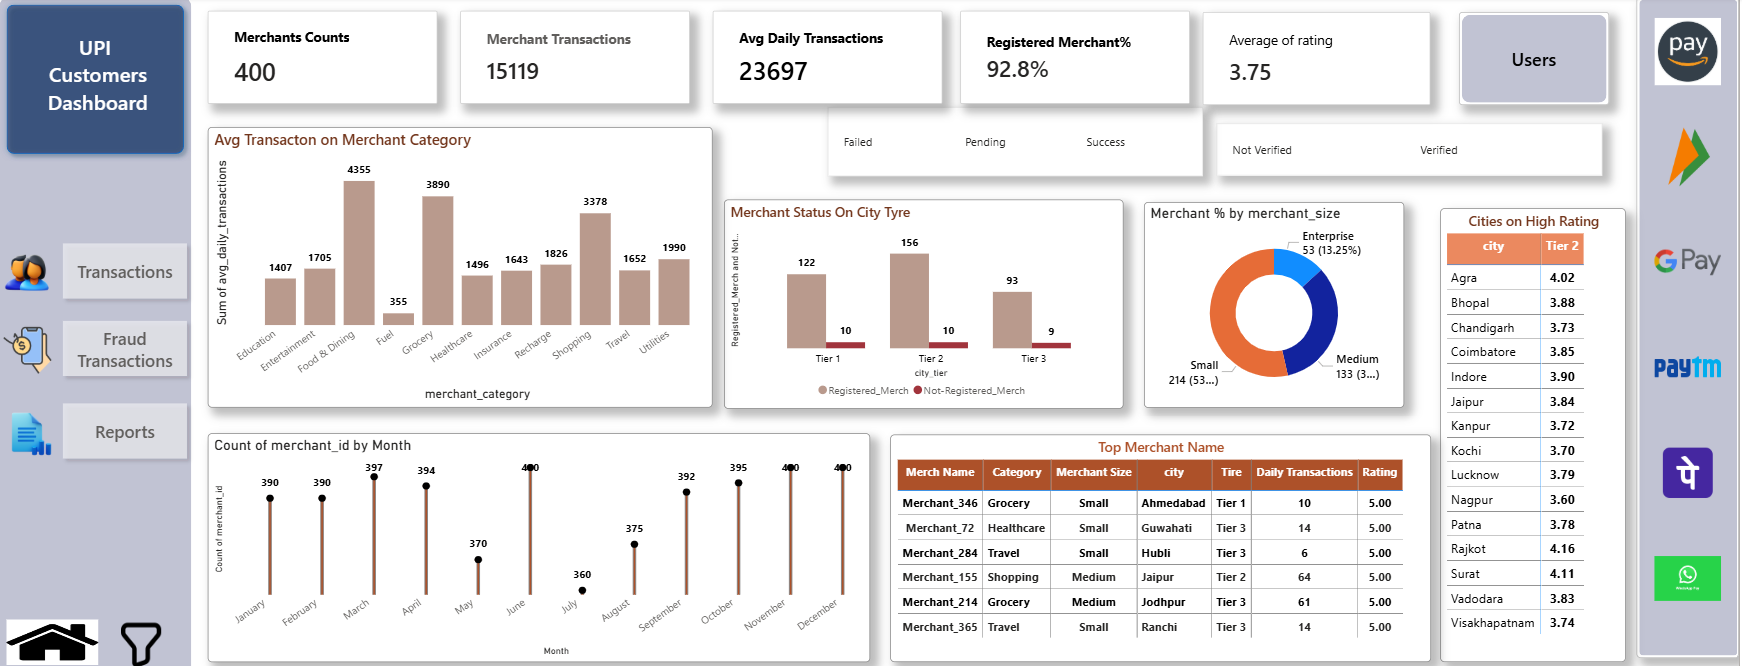

The page's visual inventory and layout, read from the dashboard file:
{"tool":"powerbi","page":{"name":"Customer","canvas":[2050,800],"ordinal":2},"visuals":[{"type":"group","id":"g1","title":"Group 11","box":[0,0,230,800],"z":0},{"type":"shape","box":[0,0,226.7,193.5],"z":0,"group":"g2"},{"type":"shape","box":[0,0,226.7,799.8],"z":0,"group":"g1"},{"type":"shape","box":[1927.8,0,121.9,778.4],"z":0,"group":"g3"},{"type":"cardVisual","fields":{"Data":["fraud_labels.Merch_Transactions"]},"box":[543.8,16.8,270,109.9],"z":0,"group":"g7"},{"type":"actionButton","box":[66,280.8,164.1,82.9],"z":0,"group":"g4"},{"type":"actionButton","box":[66,372.1,164.1,82.9],"z":0,"group":"g5"},{"type":"actionButton","box":[66,470.2,164.1,82.9],"z":0,"group":"g6"},{"type":"group","id":"g2","title":"Group 1","box":[0,0,226.7,193.5],"z":1000,"group":"g1"},{"type":"group","id":"g3","title":"Group 3","box":[1927.8,0,121.9,778.4],"z":1000},{"type":"advancedSlicerVisual","fields":{"Values":["slicer.preferred_ app"]},"box":[1943,1.6,91.4,748.8],"z":1000,"group":"g3"},{"type":"cardVisual","fields":{"Data":["Count(merchants.merchant_id)"]},"box":[245.8,16.8,270,109.9],"z":1000,"group":"g7"},{"type":"textbox","box":[30.5,39,171.2,114.1],"z":1000,"group":"g2"},{"type":"image","box":[1.7,294.3,64.3,59.2],"z":1000,"group":"g4"},{"type":"image","box":[1.7,385.6,64.3,59.2],"z":1000,"group":"g5"},{"type":"image","box":[1.7,483.7,64.3,59.2],"z":1000,"group":"g6"},{"type":"cardVisual","fields":{"Data":["fraud_labels.Registered_merch%"]},"box":[1132.2,16.8,270,109.9],"z":2000,"group":"g7"},{"type":"advancedSlicerVisual","fields":{"Values":["transactions.status"]},"box":[976.1,129.2,441.3,81.5],"z":2000},{"type":"group","id":"g4","title":"Group 10","box":[1.7,280.8,228.3,82.9],"z":2000,"group":"g1"},{"type":"cardVisual","fields":{"Data":["Sum(merchants.avg_daily_transactions)"]},"box":[839.9,16.8,270,109.9],"z":3000,"group":"g7"},{"type":"advancedSlicerVisual","fields":{"Values":["users.kyc_status"]},"box":[1434.2,149.1,454.4,61.5],"z":3000},{"type":"group","id":"g5","title":"Group 10","box":[1.7,372.1,228.3,82.9],"z":3000,"group":"g1"},{"type":"cardVisual","fields":{"Data":["Avg(merchants.rating)"]},"box":[1417.2,18.7,268.2,109.9],"z":4000,"group":"g7"},{"type":"group","id":"g6","title":"Group 10","box":[1.7,470.2,228.3,82.9],"z":4000,"group":"g1"},{"type":"shape","box":[1718.9,18.7,176.9,109.9],"z":5000,"group":"g7"},{"type":"group","id":"g7","title":"Group 4","box":[245.8,16.8,1650,111.7],"z":10000},{"type":"donutChart","fields":{"Category":["merchants.merchant_size"],"Y":["Count(merchants.merchant_id)"]},"box":[1348,242,306,242],"z":11000},{"type":"lineChart","fields":{"Category":["users.signup_month.Variation.Date Hierarchy.Month"],"Y":["Count(merchants.merchant_id)"]},"box":[245.5,513.7,780.2,269.9],"z":12000},{"type":"clusteredColumnChart","title":"Merchant Status On City Tyre","fields":{"Category":["merchants.city_tier"],"Y":["fraud_labels.Registered_Merch","fraud_labels.Not-Registered_Merch"]},"box":[854,238,470,246],"z":13000},{"type":"clusteredColumnChart","title":"Avg Transacton on Merchant Category","fields":{"Category":["merchants.merchant_category"],"Y":["Sum(merchants.avg_daily_transactions)"]},"box":[246.5,153.1,594.4,330],"z":14000},{"type":"pivotTable","title":"Cities on High Rating","fields":{"Rows":["merchants.city"],"Values":["Avg(merchants.rating)"],"Columns":["merchants.city_tier"]},"box":[1697.8,248.5,218.7,534.8],"z":15000},{"type":"tableEx","title":"Top Merchant Name","fields":{"Values":["merchants.merchant_name","merchants.merchant_category","merchants.merchant_size","merchants.city","merchants.city_tier","Sum(merchants.avg_daily_transactions)","Avg(merchants.rating)"]},"box":[1049.7,515.4,636.5,268.4],"z":16000},{"type":"image","box":[113.7,732.2,108.2,63.8],"z":19000},{"type":"image","box":[8.7,733.1,108,54],"z":20000}]}

Visuals, with their boxes in screenshot pixels (x1, y1, x2, y2), scaled from the page's 2050x800 canvas onto the 1742x666 screenshot:
"Group 11" group: 0/0/195/665
shape: 0/0/193/161
shape: 0/0/193/665
shape: 1638/0/1741/648
cardVisual - fraud_labels.Merch_Transactions: 462/14/692/105
actionButton: 56/234/196/303
actionButton: 56/310/196/379
actionButton: 56/391/196/460
"Group 1" group: 0/0/193/161
"Group 3" group: 1638/0/1741/648
advancedSlicerVisual - slicer.preferred_ app: 1651/1/1729/625
cardVisual - Count(merchants.merchant_id): 209/14/438/105
textbox: 26/32/171/127
image: 1/245/56/294
image: 1/321/56/370
image: 1/403/56/452
cardVisual - fraud_labels.Registered_merch%: 962/14/1192/105
advancedSlicerVisual - transactions.status: 829/108/1204/175
"Group 10" group: 1/234/195/303
cardVisual - Sum(merchants.avg_daily_transactions): 714/14/943/105
advancedSlicerVisual - users.kyc_status: 1219/124/1605/175
"Group 10" group: 1/310/195/379
cardVisual - Avg(merchants.rating): 1204/16/1432/107
"Group 10" group: 1/391/195/460
shape: 1461/16/1611/107
"Group 4" group: 209/14/1611/107
donutChart - merchants.merchant_size x Count(merchants.merchant_id): 1145/201/1405/403
lineChart - users.signup_month.Variation.Date Hierarchy.Month x Count(merchants.merchant_id): 209/428/872/652
"Merchant Status On City Tyre" clusteredColumnChart: 726/198/1125/403
"Avg Transacton on Merchant Category" clusteredColumnChart: 209/127/715/402
"Cities on High Rating" pivotTable: 1443/207/1629/652
"Top Merchant Name" tableEx: 892/429/1433/653
image: 97/610/189/663
image: 7/610/99/655
